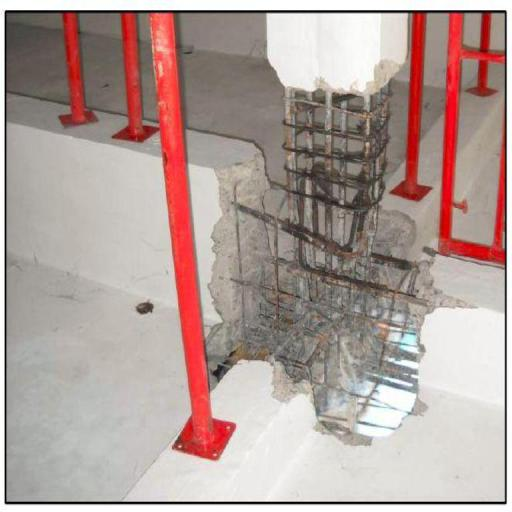spalling: (265, 87, 406, 402)
